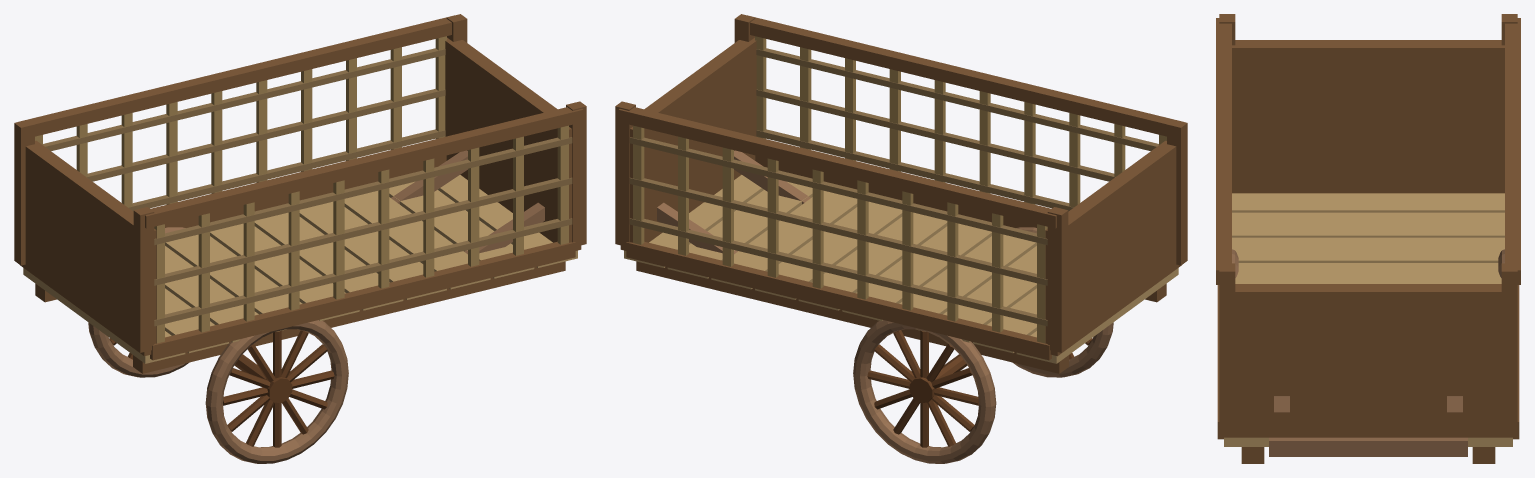
The model's file is lib_lib_prop_cart.glb.
3 views of the same model, side by side, from view 1: azimuth 30°, elevation 25°; view 2: azimuth 150°, elevation 25°; view 3: azimuth 270°, elevation 25° (orthographic). The views are drawn at different scales.
Parts seen in each view (by area): view 1: cart_body; view 2: cart_body; view 3: cart_body.
Part boxes in pixels (x1,y1,x2,y2): cart_body: (14,14,586,463); cart_body: (615,14,1187,463); cart_body: (1216,14,1520,463).
Bounding box in the file's own units: 1.91 × 1.15 × 0.95.
Materials: 1 (1 with a texture image).
